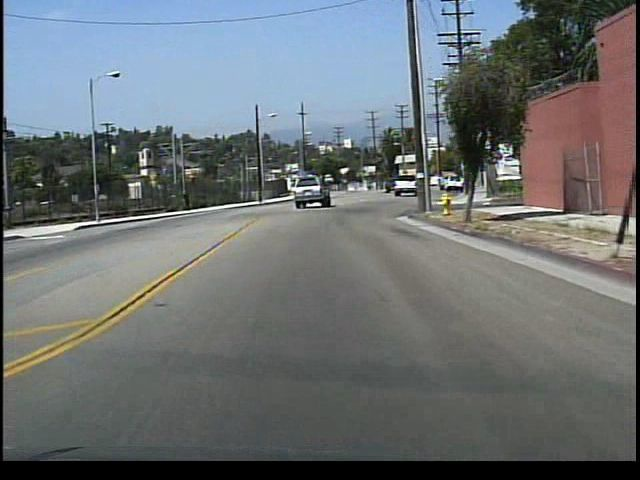person: (183, 189, 192, 213)
